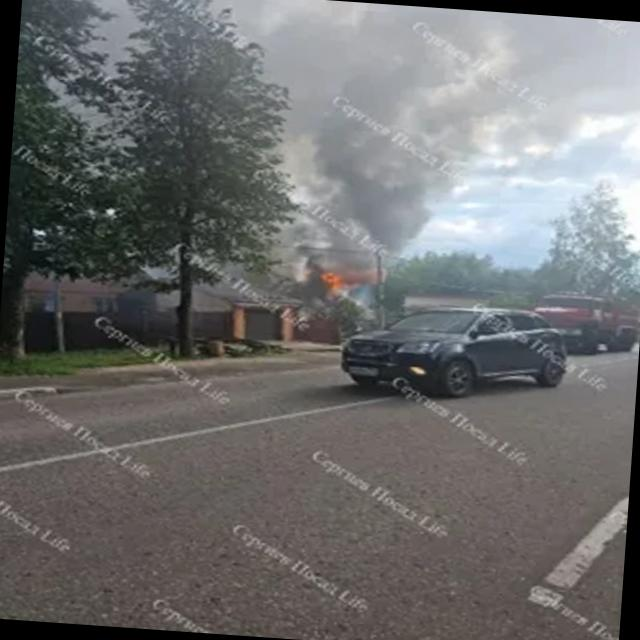Smoke: (283, 0, 478, 288)
